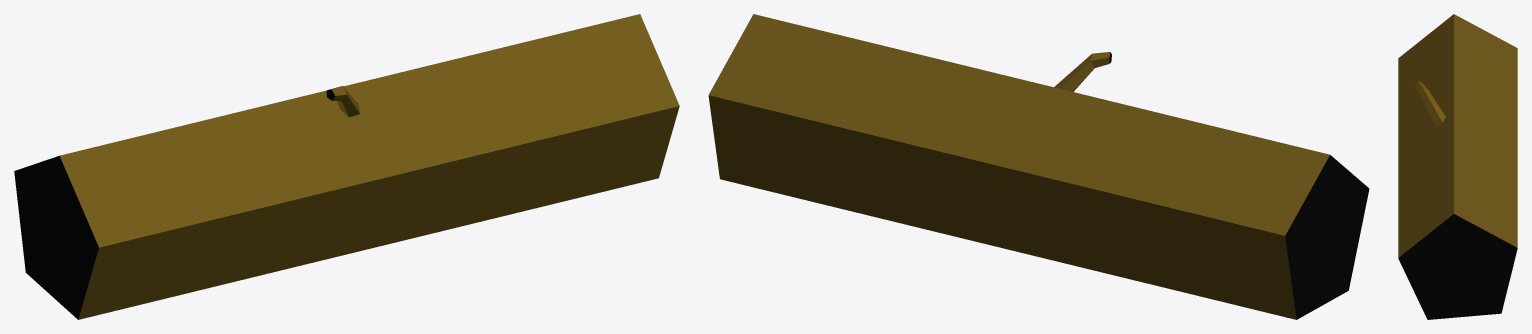
File: Brevno.glb
3 views of the same model, side by side, from view 1: azimuth 30°, elevation 25°; view 2: azimuth 150°, elevation 25°; view 3: azimuth 270°, elevation 25° (orthographic). The views are drawn at different scales.
Parts seen in each view (by area): view 1: Cylinder; view 2: Cylinder; view 3: Cylinder.
Part boxes in pixels (x1=…): Cylinder: x1=14, y1=14, x2=679, y2=319; Cylinder: x1=708, y1=14, x2=1369, y2=319; Cylinder: x1=1398, y1=14, x2=1517, y2=319.
Size of the model in its own units: 7.64 by 2.21 by 1.93.
1 material, 1 textured.
